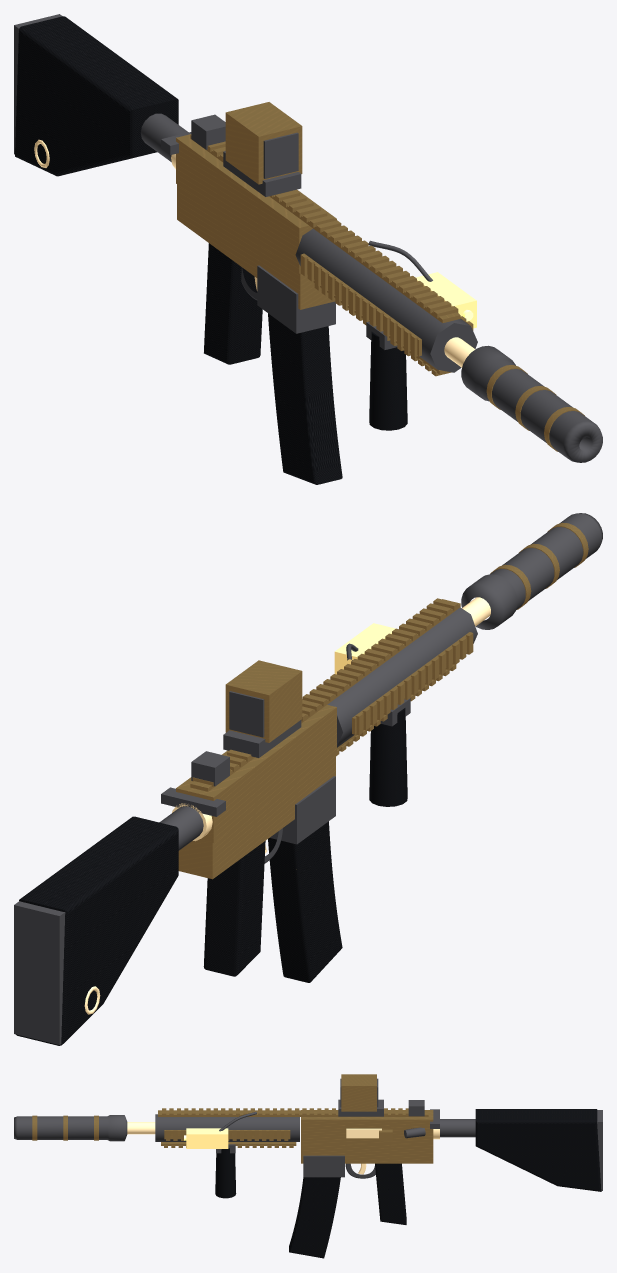
The model's file is m4a1_tactical (1).glb.
The picture shows the model from 3 angles, top to bottom: view 1: azimuth 30°, elevation 25°; view 2: azimuth 150°, elevation 25°; view 3: azimuth 270°, elevation 25°; orthographic projection. The views are drawn at different scales.
Parts seen in each view (by area): view 1: M4A1_Body_polymer, M4A1_Body_metalPrimary, M4A1_Body_metalDark, M4A1_Mag_polymer, M4A1_Body_accent, M4A1_Body_metalChrome; view 2: M4A1_Body_polymer, M4A1_Body_metalPrimary, M4A1_Body_metalDark, M4A1_Mag_polymer, M4A1_Body_accent, M4A1_Body_metalChrome, M4A1_Bolt_metalDark; view 3: M4A1_Body_polymer, M4A1_Body_metalPrimary, M4A1_Body_metalDark, M4A1_Mag_polymer, M4A1_Body_accent, M4A1_Body_metalChrome, M4A1_Bolt_metalChrome.
Part boxes in pixels (x1,y1,x2,y2): M4A1_Body_polymer: (15,16,407,430); M4A1_Body_metalPrimary: (176,102,584,451); M4A1_Body_metalDark: (14,14,602,462); M4A1_Mag_polymer: (268,313,342,484); M4A1_Body_accent: (415,272,476,328); M4A1_Body_metalChrome: (34,139,475,367); M4A1_Body_polymer: (16,708,407,1045); M4A1_Body_metalPrimary: (176,522,588,879); M4A1_Body_metalDark: (14,513,602,1044); M4A1_Mag_polymer: (268,821,342,982); M4A1_Body_accent: (334,623,395,674); M4A1_Body_metalChrome: (84,597,490,1014); M4A1_Bolt_metalDark: (161,787,225,816); M4A1_Body_polymer: (215,1109,601,1224); M4A1_Body_metalPrimary: (32,1074,433,1163); M4A1_Body_metalDark: (14,1078,602,1190); M4A1_Mag_polymer: (289,1177,340,1258); M4A1_Body_accent: (186,1128,228,1148); M4A1_Body_metalChrome: (127,1122,439,1174); M4A1_Bolt_metalChrome: (346,1128,381,1138).
Size of the model in its own units: 0.0814 by 0.3139 by 0.957.
Materials: 8 (2 with a texture image).
